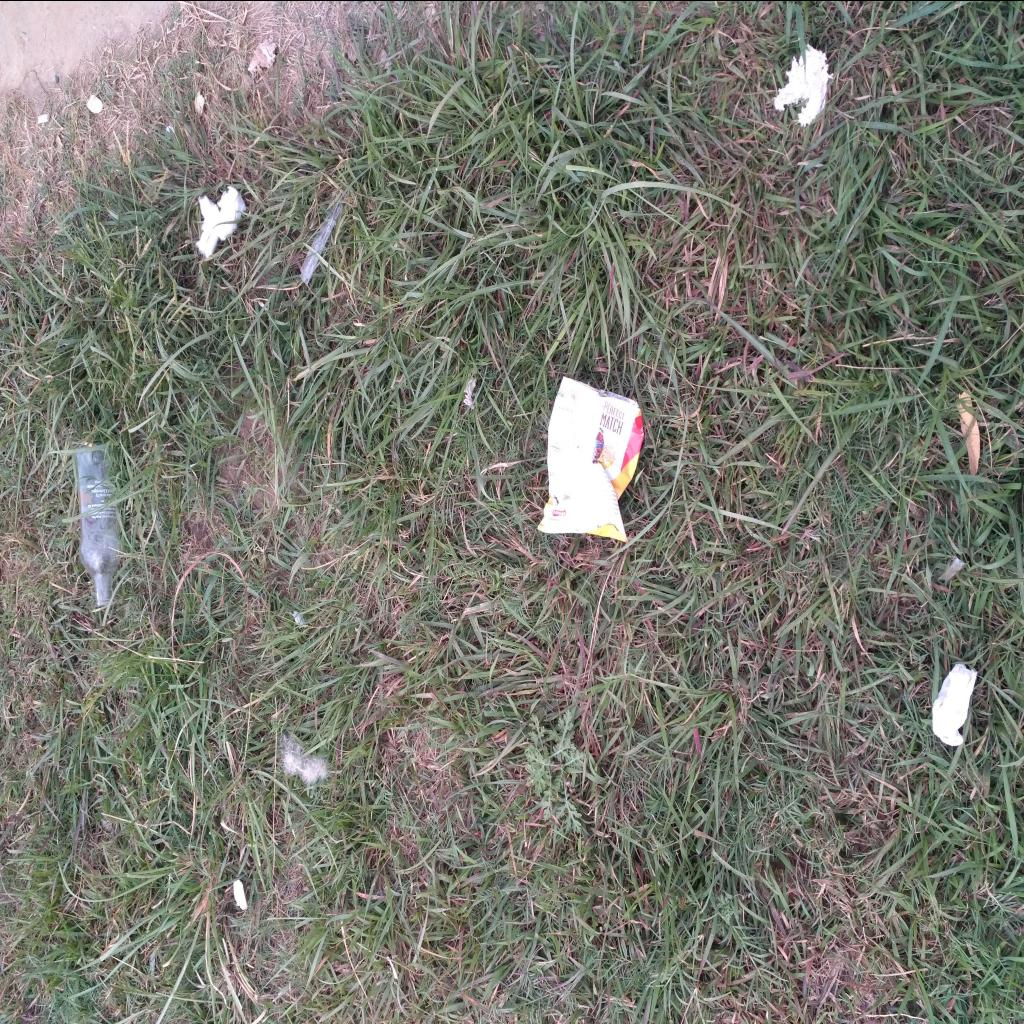Cigarette: (38, 112, 50, 122)
Glass bottle: (76, 450, 122, 605)
Plastic film: (932, 661, 976, 746), (300, 202, 342, 284), (939, 554, 969, 583)
Unlabeled litter: (776, 42, 828, 124), (195, 184, 245, 259), (234, 880, 246, 908)
